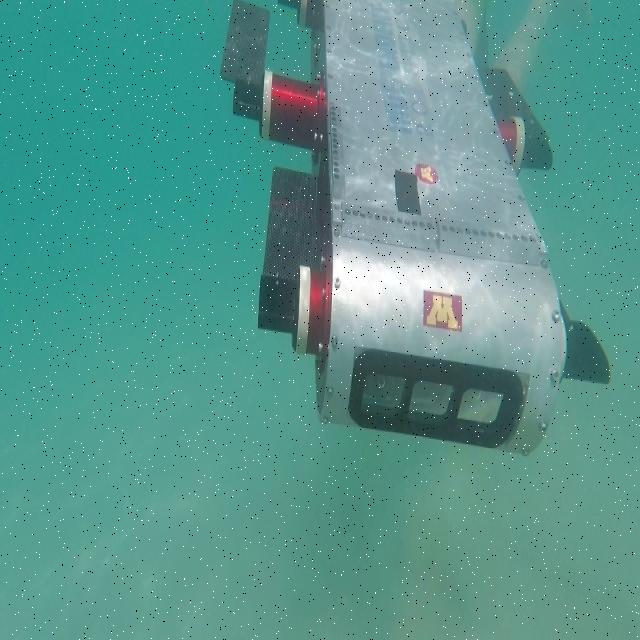robots: (222, 0, 611, 458)
